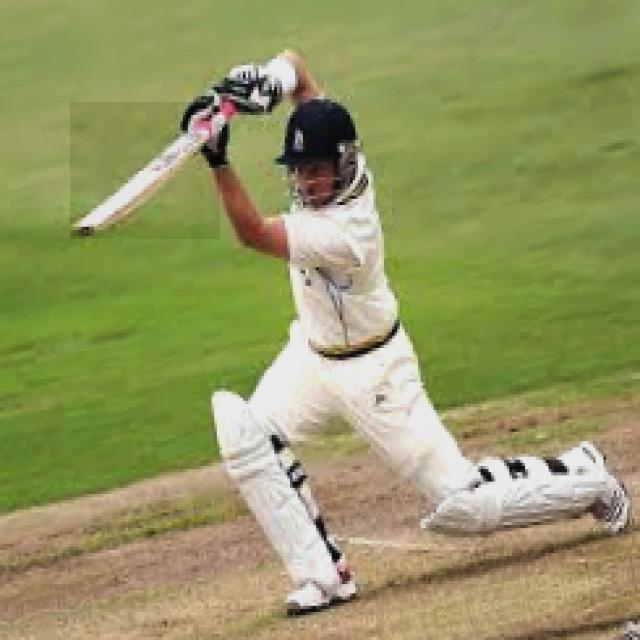bat: (70, 104, 218, 240)
toe: (69, 219, 105, 242)
